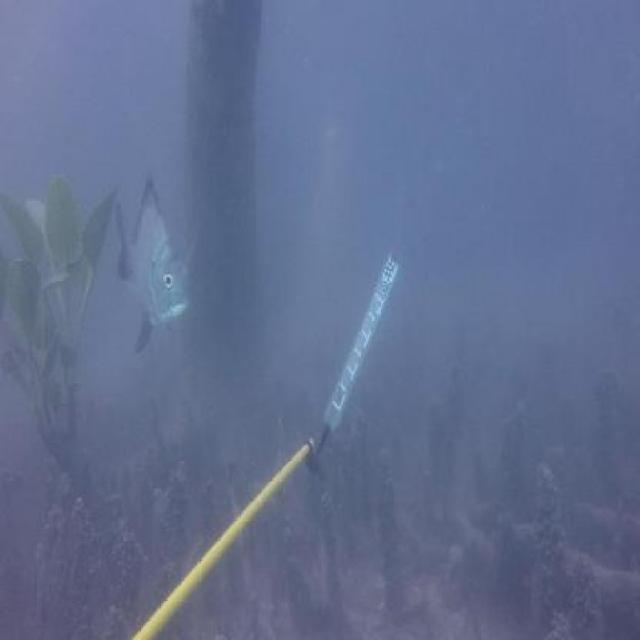acanthopagrus_palmaris: (112, 170, 195, 359)
